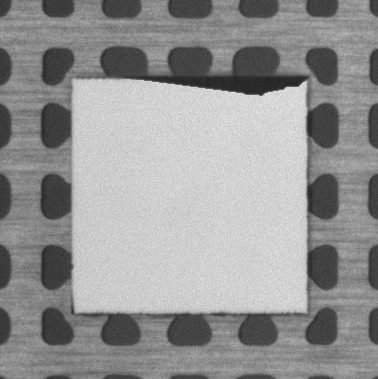DIE_BROKEN: (120, 74, 309, 98)
